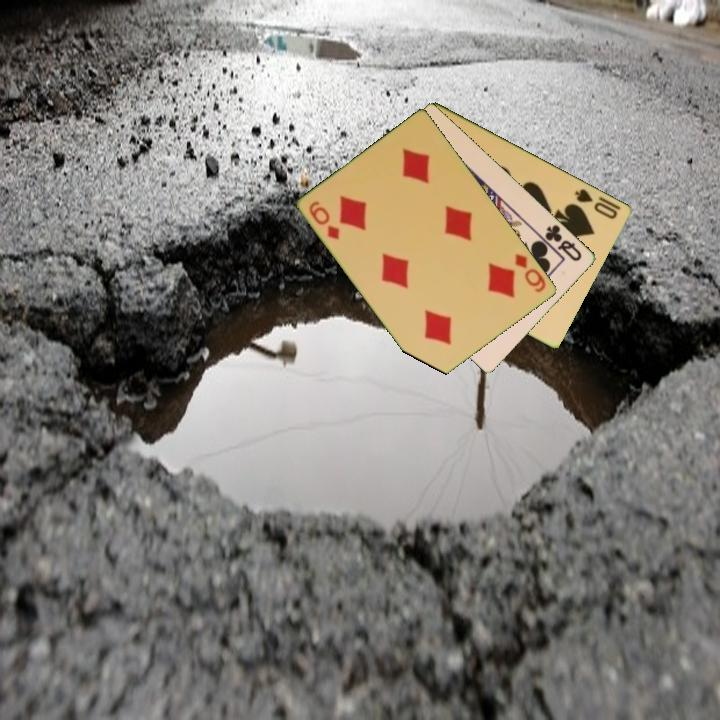10s: (571, 185, 621, 222)
6d: (306, 197, 343, 243), (512, 250, 549, 295)
Qc: (536, 221, 585, 264)
